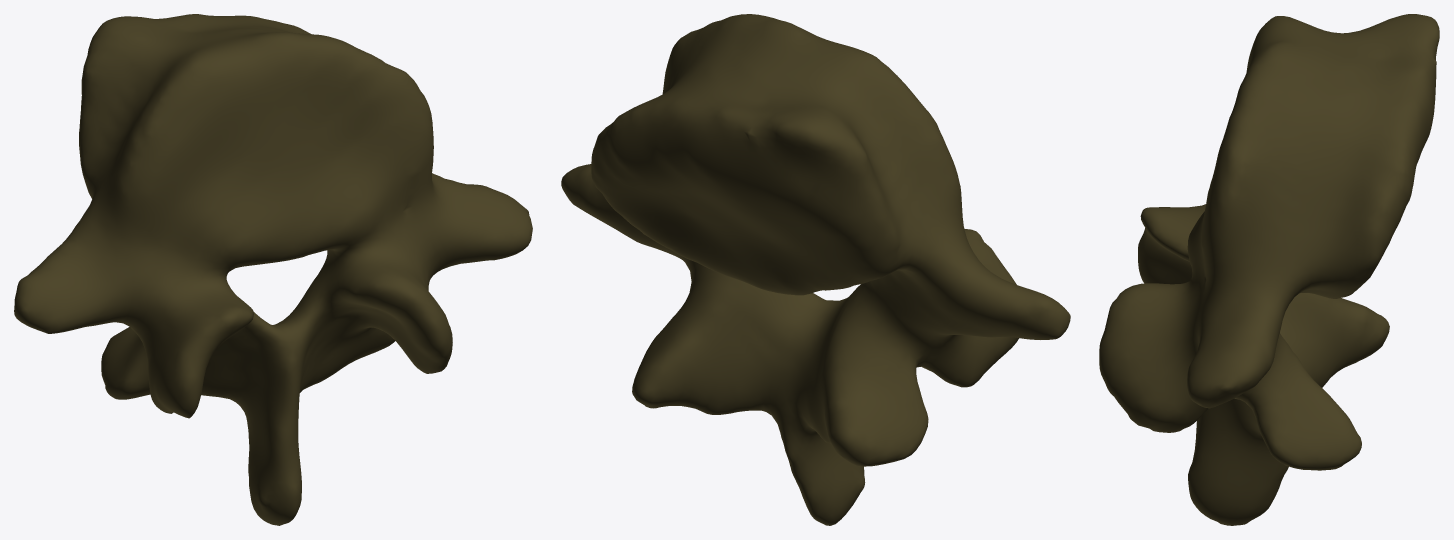
Rendered from segmentations_vertebrae_L5.obj.
3 renders of one model, left to right at view 1: azimuth 30°, elevation 25°; view 2: azimuth 150°, elevation 25°; view 3: azimuth 270°, elevation 25°, orthographic. The views are drawn at different scales.
Visible parts, largest first — view 1: grp1; view 2: grp1; view 3: grp1.
Boxes of the visible parts, x1,y1,x2,y2 form: grp1: (14,14,532,525); grp1: (561,14,1070,525); grp1: (1099,14,1439,525).
Bounding box in the file's own units: 59.28 × 54.34 × 34.31.
